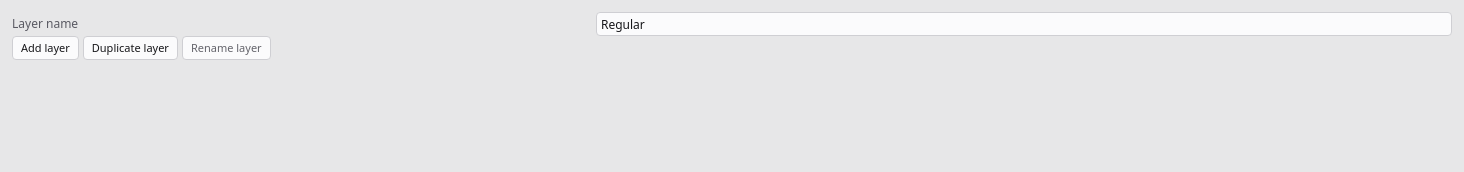
Test: named layer controls › rejects an empty layer name
Step 1. Clear the field labelled "Layer name" → (1024, 24), box [596, 12, 1452, 36]
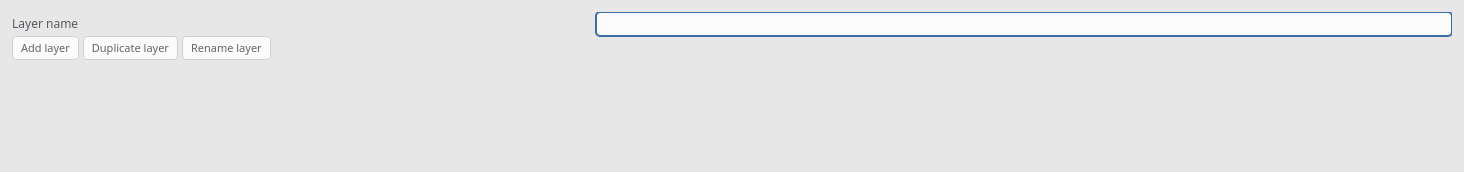
Expected: the button "Rename layer" is disabled, [182, 36, 271, 60]
Expected: the button "Add layer" is disabled, [12, 36, 79, 60]
Expected: the button "Duplicate layer" is disabled, [83, 36, 178, 60]
